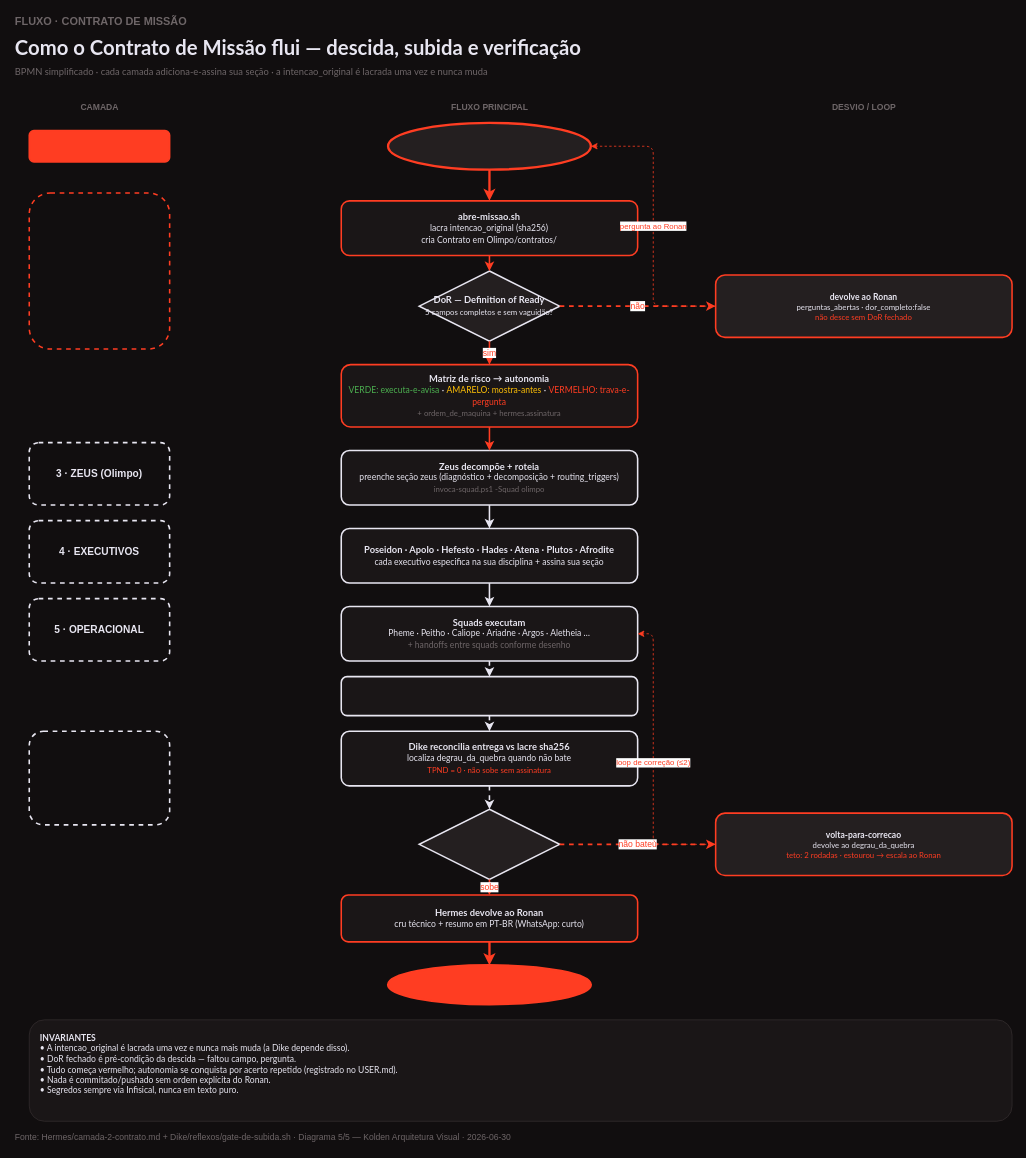
Image size: 1026x1158. Some labels were removed from this diagram. Here are the shapes that lost their labels. From the top down, the centre of each, then its label:
the point at 99,145: 1 · HUMANO
the point at 489,145: Input cru do Ronan (WhatsApp · CLI · chat)
the point at 99,270: 2 · HERMES (tradução)
the point at 489,695: Zeus consolida a subida (zeus.consolidacao)
the point at 99,777: DIKE (verifica subida)
the point at 489,844: gate-de-subida.sh fail-closed · dike.veredito == sobe ?
the point at 489,984: Entrega ao Ronan
